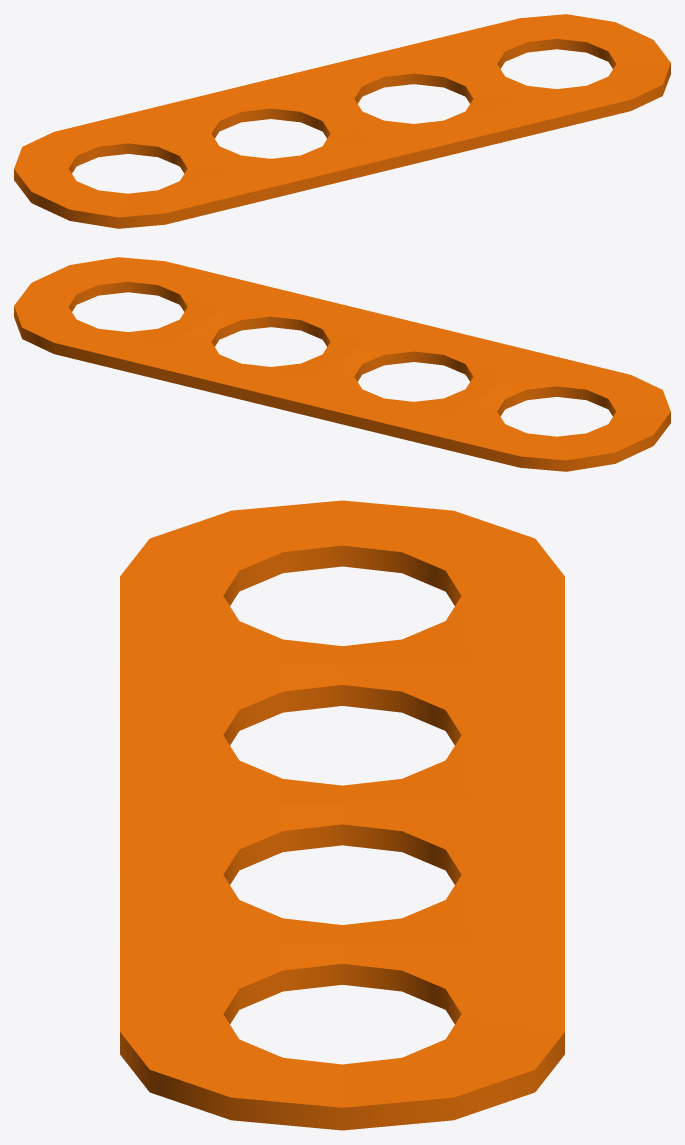
The model's file is FourLongYellow.fbx.
3 renders of one model, top to bottom at view 1: azimuth 30°, elevation 25°; view 2: azimuth 150°, elevation 25°; view 3: azimuth 270°, elevation 25°, orthographic. The views are drawn at different scales.
Parts seen in each view (by area): view 1: Blue4; view 2: Blue4; view 3: Blue4.
Part boxes in pixels (box(x1,y1,x2,y2)): Blue4: box(14, 14, 670, 228); Blue4: box(14, 257, 670, 471); Blue4: box(120, 500, 564, 1130).
Size of the model in its own units: 11.13 by 0.1942 by 3.45.
